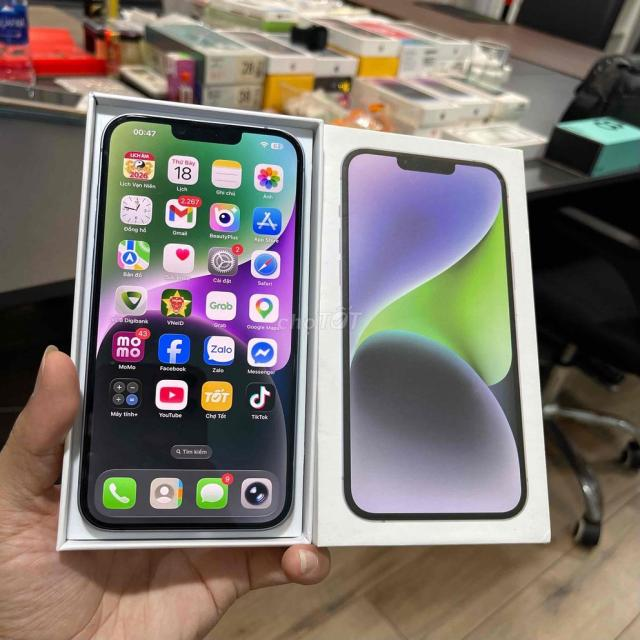gen_14: (71, 104, 303, 540)
